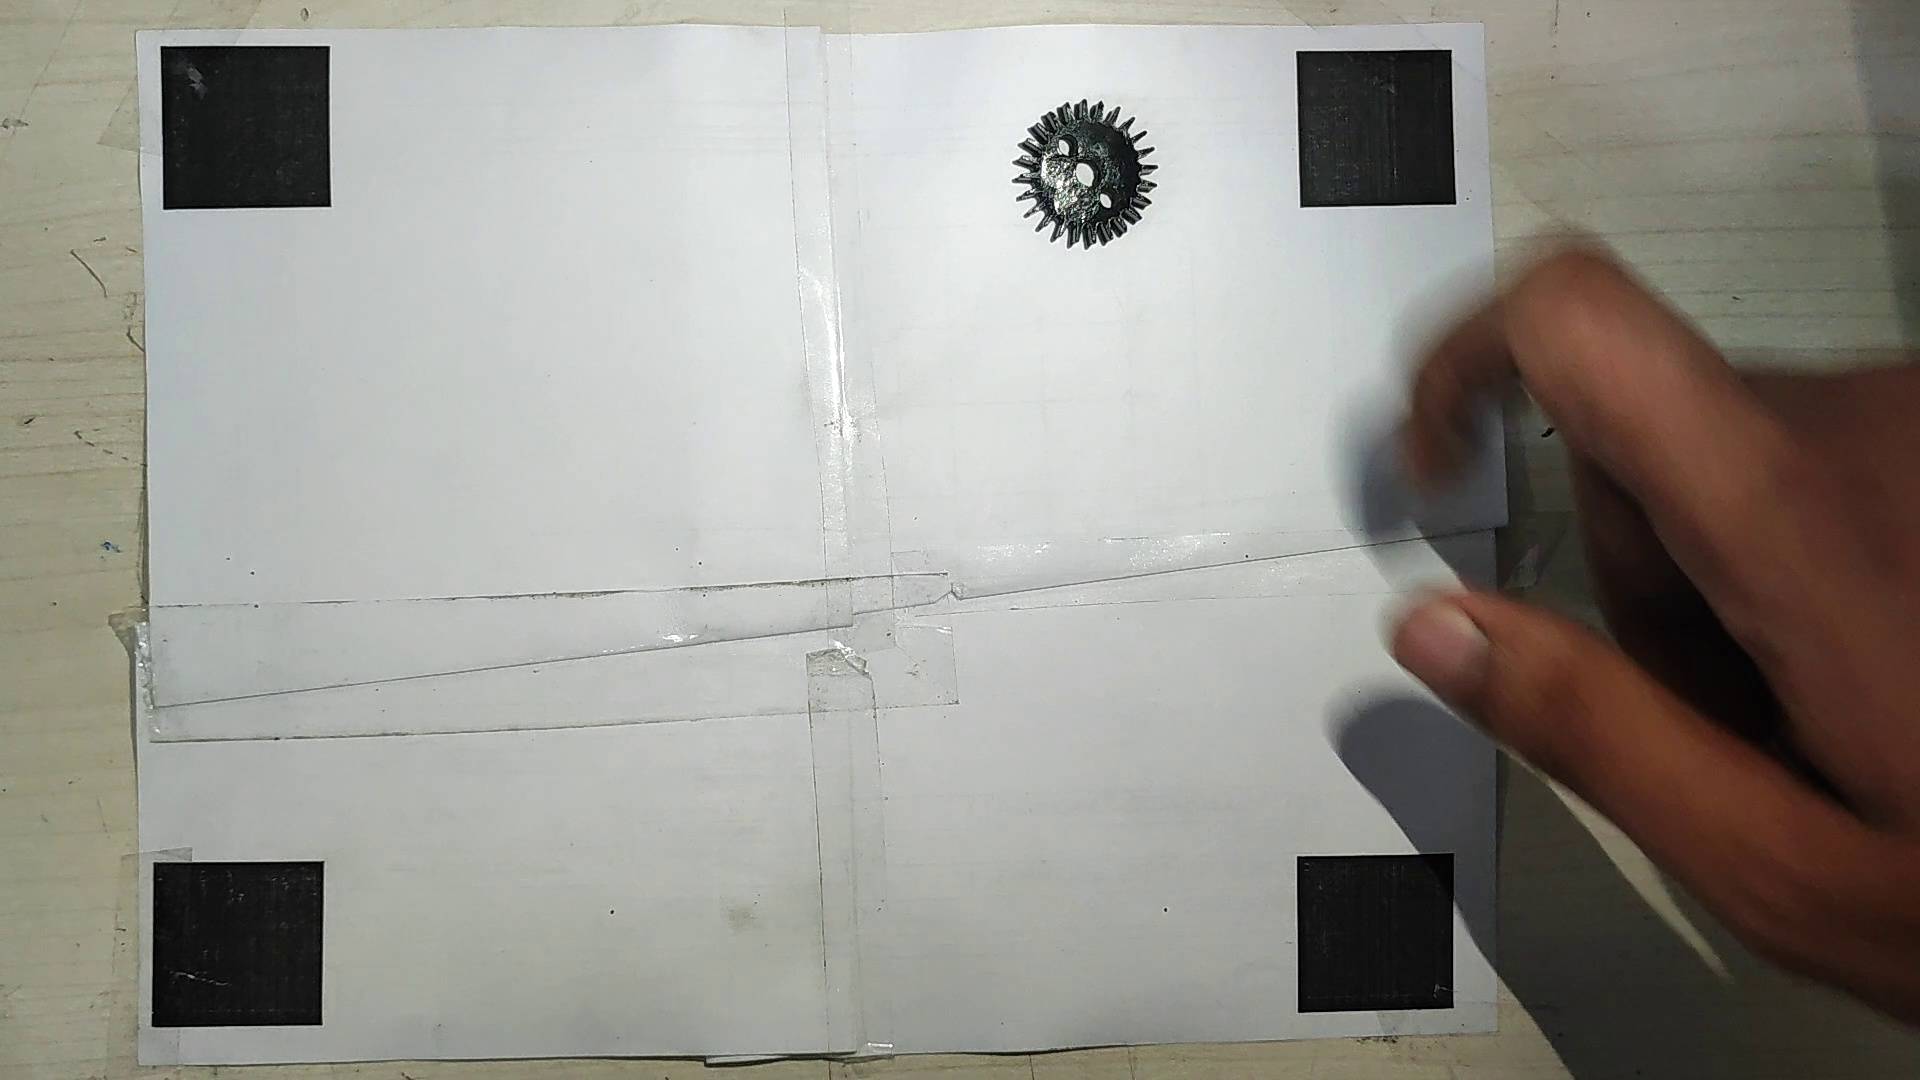Gear: (1004, 92, 1162, 252)
